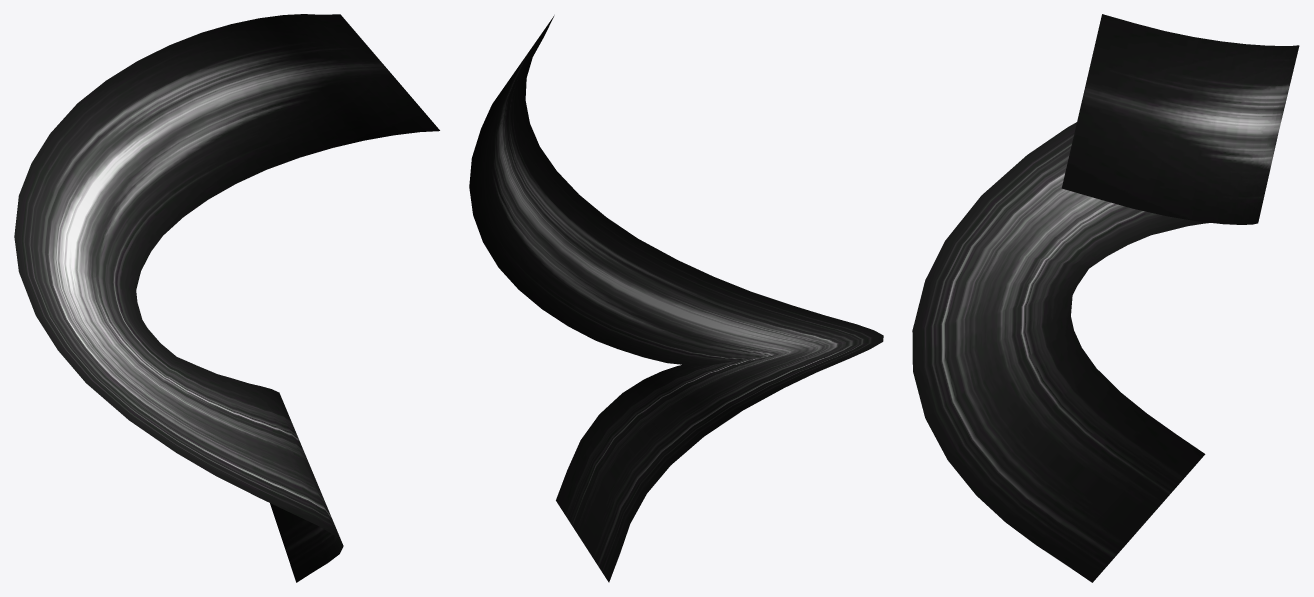
The model's file is luoxuanxian_1.FBX.
The picture shows the model from 3 angles, left to right: view 1: azimuth 30°, elevation 25°; view 2: azimuth 150°, elevation 25°; view 3: azimuth 270°, elevation 25°; orthographic projection. The views are drawn at different scales.
Parts seen in each view (by area): view 1: Plane002; view 2: Plane002; view 3: Plane002.
Part boxes in pixels (bbox=[...]): Plane002: bbox=[14, 14, 439, 582]; Plane002: bbox=[469, 15, 883, 582]; Plane002: bbox=[912, 14, 1299, 582].
Size of the model in its own units: 2.58 by 2.11 by 3.57.
